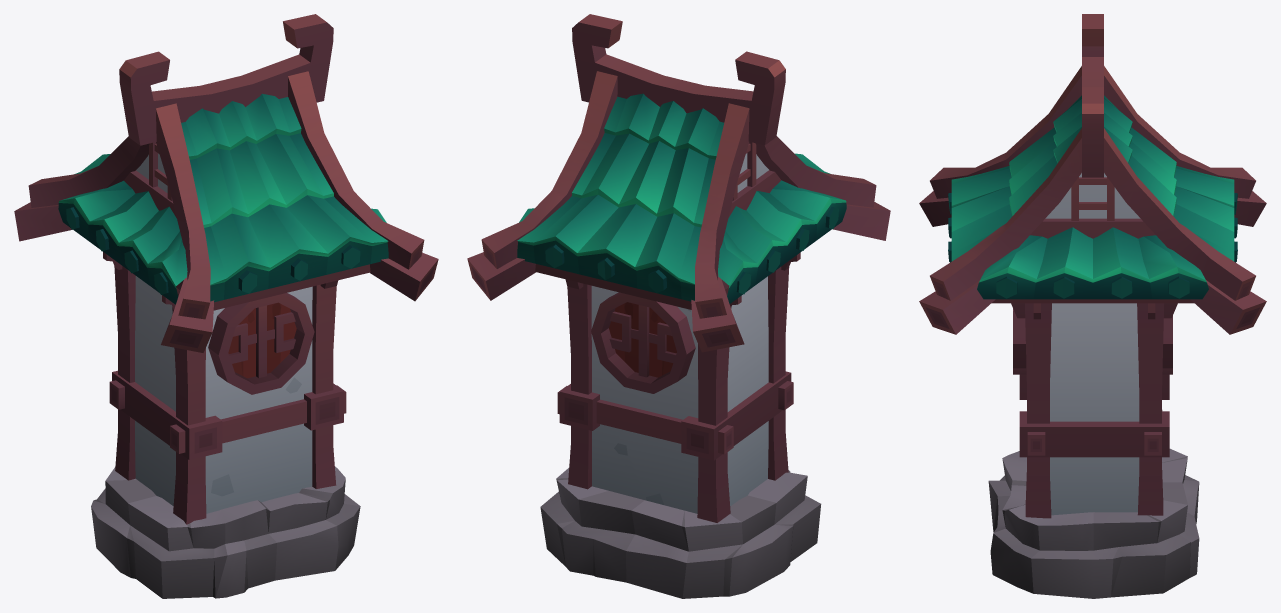
Rendered from tower.glb.
The picture shows the model from 3 angles, left to right: view 1: azimuth 30°, elevation 25°; view 2: azimuth 150°, elevation 25°; view 3: azimuth 270°, elevation 25°; orthographic projection. The views are drawn at different scales.
Visible parts, largest first — view 1: tower; view 2: tower; view 3: tower.
Boxes of the visible parts, x1,y1,x2,y2 form: tower: (14,14,438,598); tower: (467,14,890,598); tower: (919,14,1266,598).
Size of the model in its own units: 2.44 by 4.34 by 2.78.
Materials: 1 (1 with a texture image).
